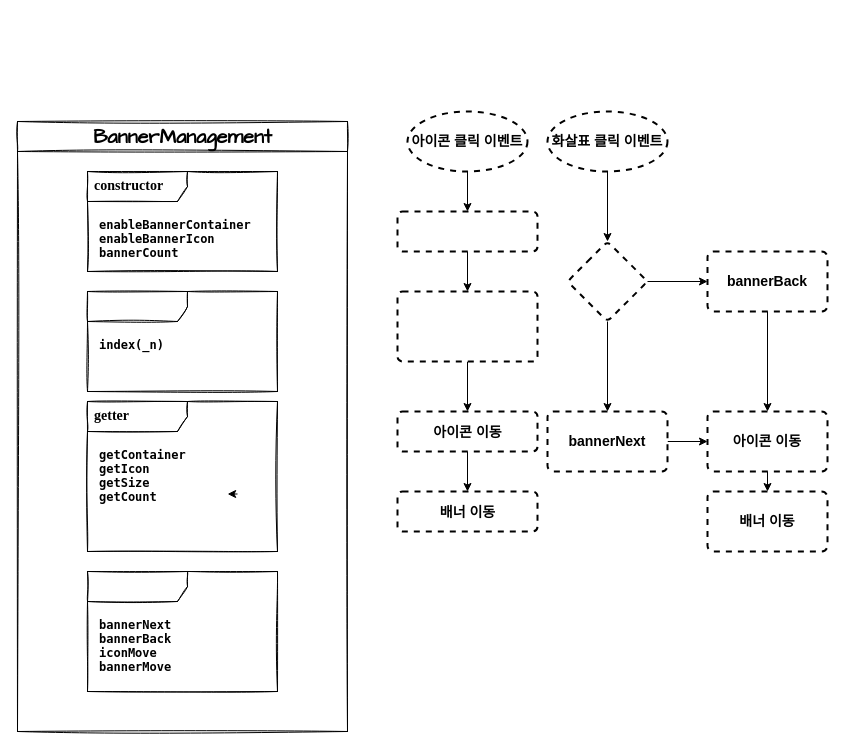
This 846x749 diagram has some shape labels left out. Here are the shapes that lost their labels. From the top down, the centre of each, then its label:
the point at 467,231: 클릭한 아이콘 Index 확인
the point at 607,281: 어느쪽 선택?
the point at 182,341: Setter
the point at 467,326: Index 대입
the point at 182,631: Function
